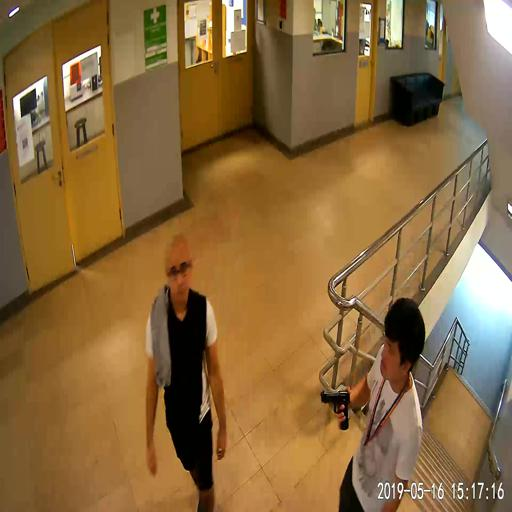pistol: (319, 387, 350, 430)
